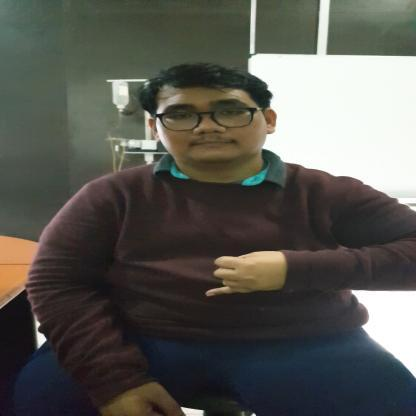J: (203, 250, 293, 298)
